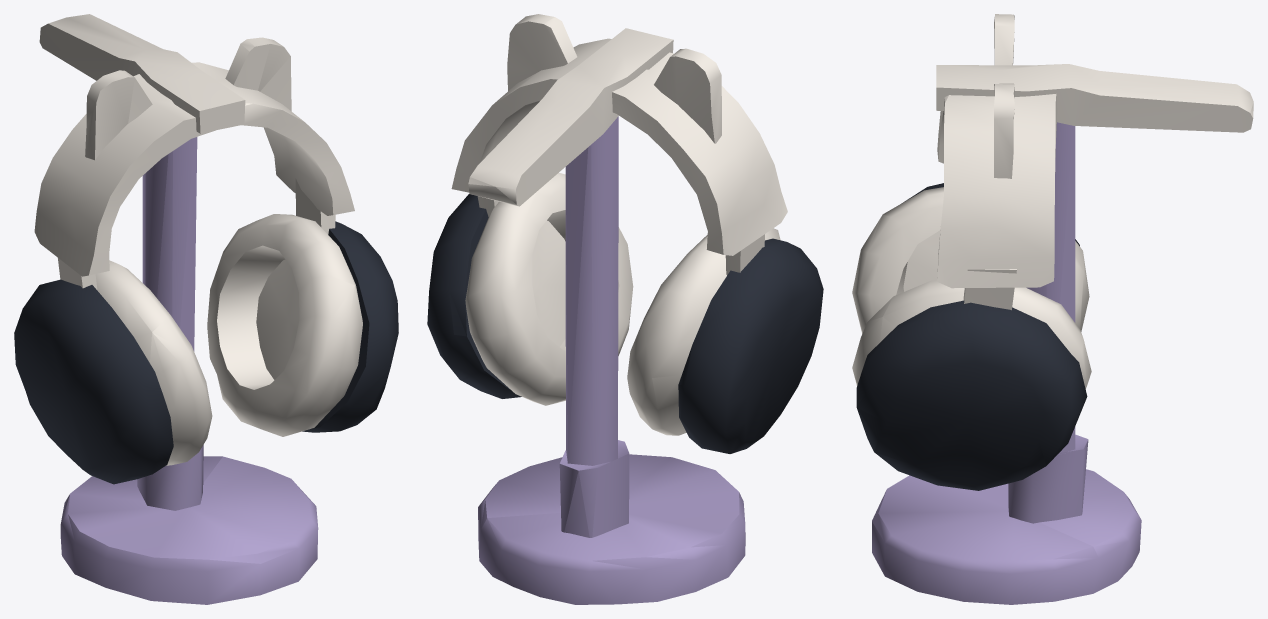
The model's file is gaming_headphones.glb.
The picture shows the model from 3 angles, left to right: view 1: azimuth 30°, elevation 25°; view 2: azimuth 150°, elevation 25°; view 3: azimuth 270°, elevation 25°; orthographic projection. The views are drawn at different scales.
Size of the model in its own units: 0.48 by 0.7053 by 0.515.
